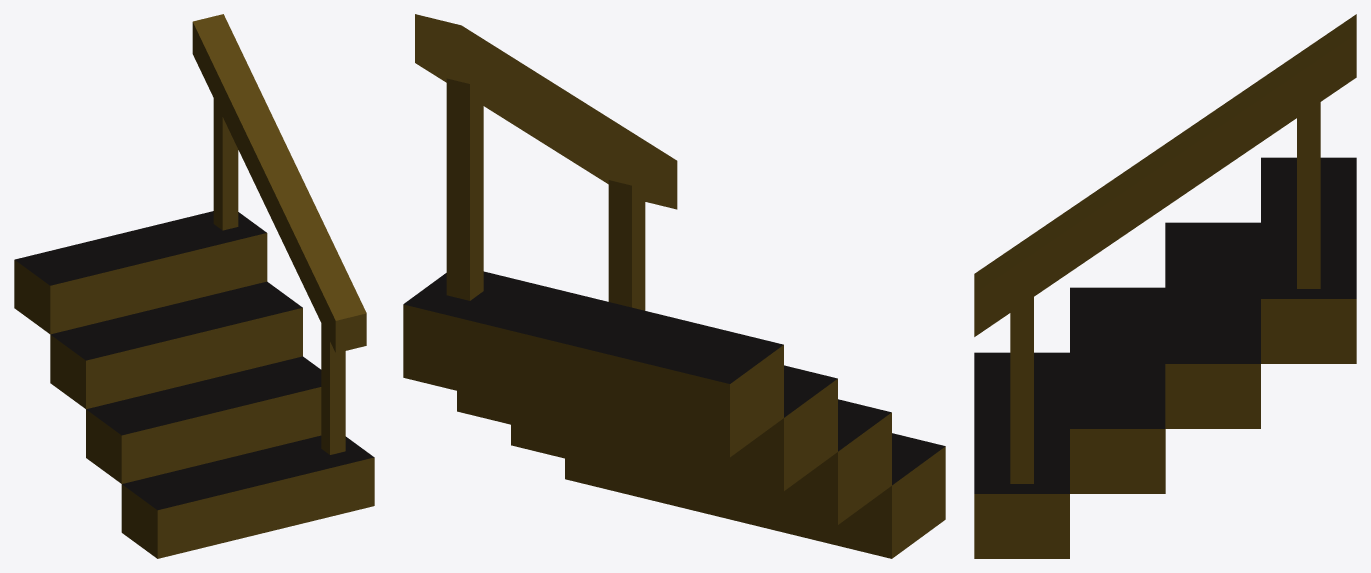
File: obj_staircase_16_0.obj
3 views of the same model, side by side, from view 1: azimuth 30°, elevation 25°; view 2: azimuth 150°, elevation 25°; view 3: azimuth 270°, elevation 25° (orthographic). The views are drawn at different scales.
Bounding box in the file's own units: 0.875 × 1.5 × 1.
